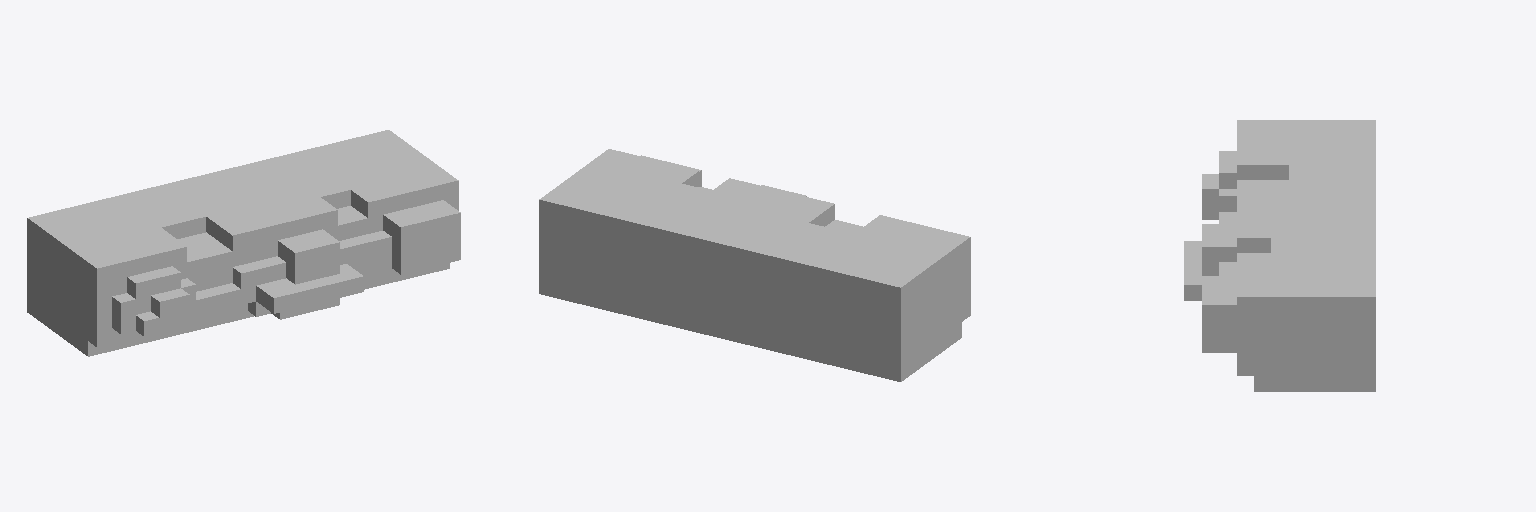
The model's file is cliff1 24x12.obj.
3 views of the same model, side by side, from view 1: azimuth 30°, elevation 25°; view 2: azimuth 150°, elevation 25°; view 3: azimuth 270°, elevation 25° (orthographic).
Size of the model in its own units: 24 by 6 by 11.